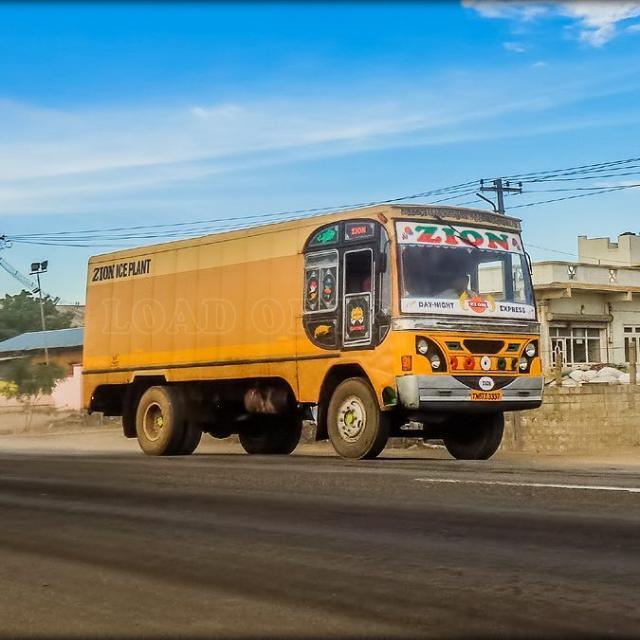Truck: (80, 199, 552, 459)
